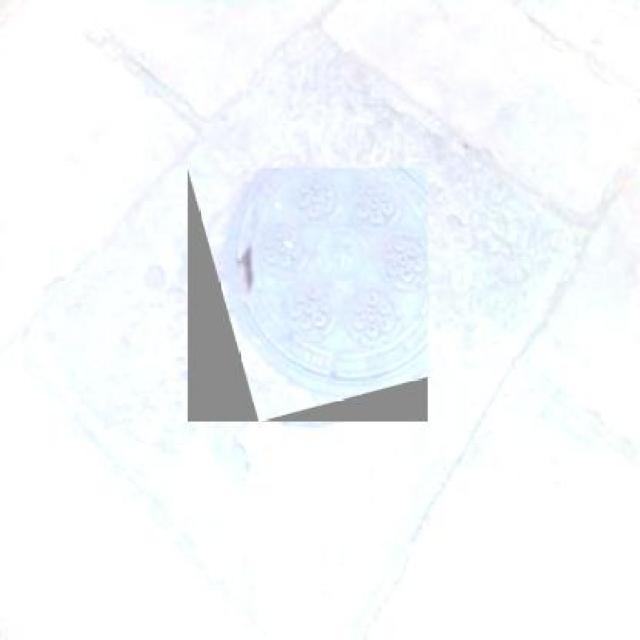Manhole: (188, 168, 428, 422)
